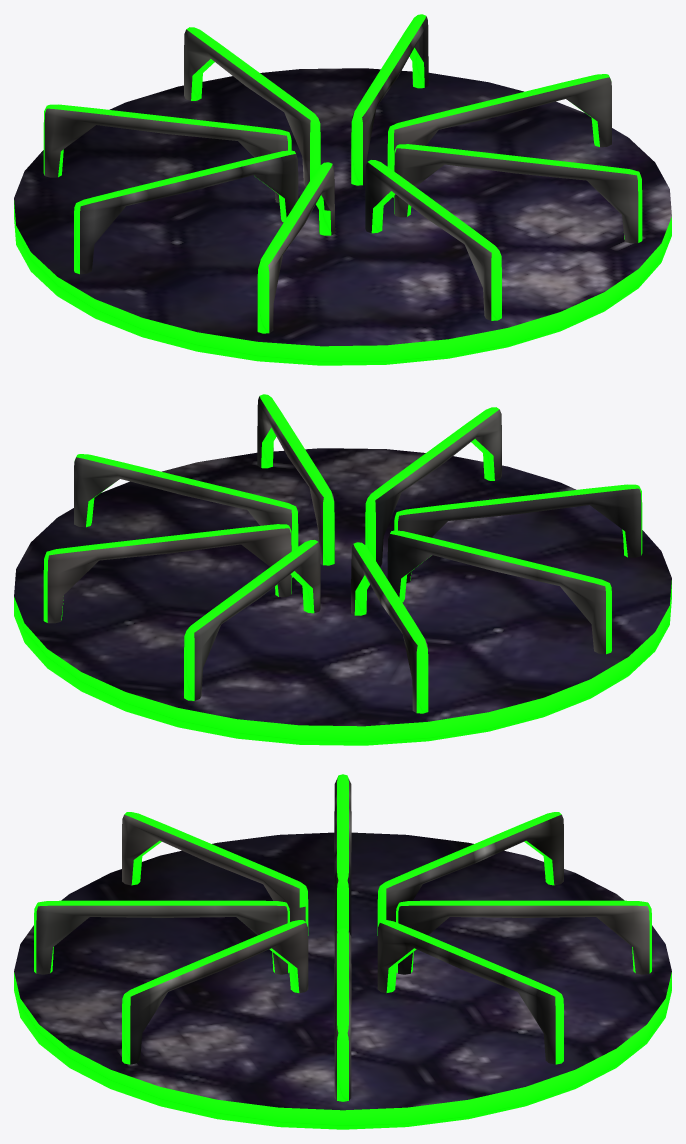
Rendered from Carousel.glb.
3 views of the same model, one above another, from view 1: azimuth 30°, elevation 25°; view 2: azimuth 150°, elevation 25°; view 3: azimuth 270°, elevation 25° (orthographic).
Visible parts, largest first — view 1: Carousel; view 2: Carousel; view 3: Carousel.
Part boxes in pixels (box(x1,y1,x2,y2)): Carousel: box(14, 14, 671, 365); Carousel: box(14, 394, 671, 745); Carousel: box(14, 774, 671, 1129).
Size of what is drawn, in the model's own units: 9.44 by 1.41 by 9.44.
Materials: 2 (1 with a texture image).
